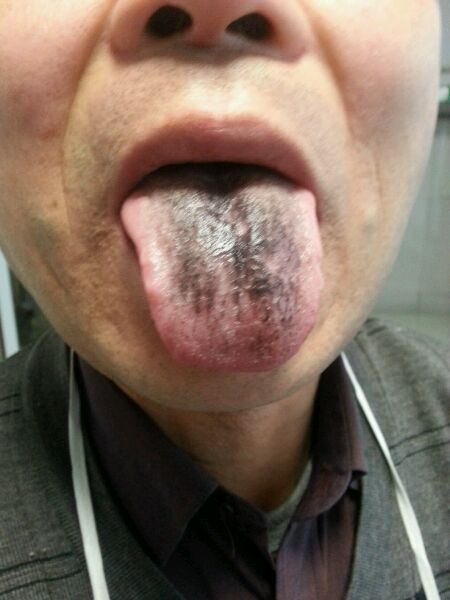heitaishe: (120, 163, 325, 370)
